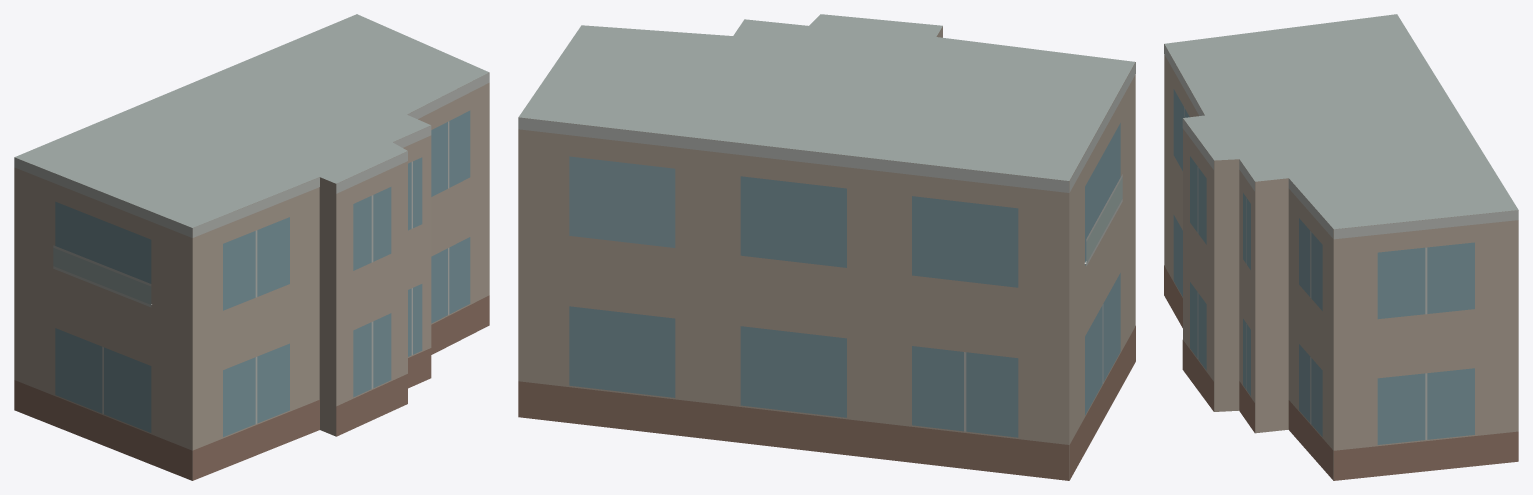
The model's file is survey-upis-32930893.glb.
3 views of the same model, side by side, from view 1: azimuth 30°, elevation 25°; view 2: azimuth 150°, elevation 25°; view 3: azimuth 270°, elevation 25° (orthographic). The views are drawn at different scales.
Visible parts, largest first — view 1: survey-upis-32930893.tmp; view 2: survey-upis-32930893.tmp; view 3: survey-upis-32930893.tmp.
Boxes of the visible parts, left/top/right/bottom form: survey-upis-32930893.tmp: left=14, top=14, right=489, bottom=480; survey-upis-32930893.tmp: left=518, top=14, right=1135, bottom=480; survey-upis-32930893.tmp: left=1164, top=14, right=1518, bottom=480.
Size of the model in its own units: 11.21 by 6.1 by 7.8.
